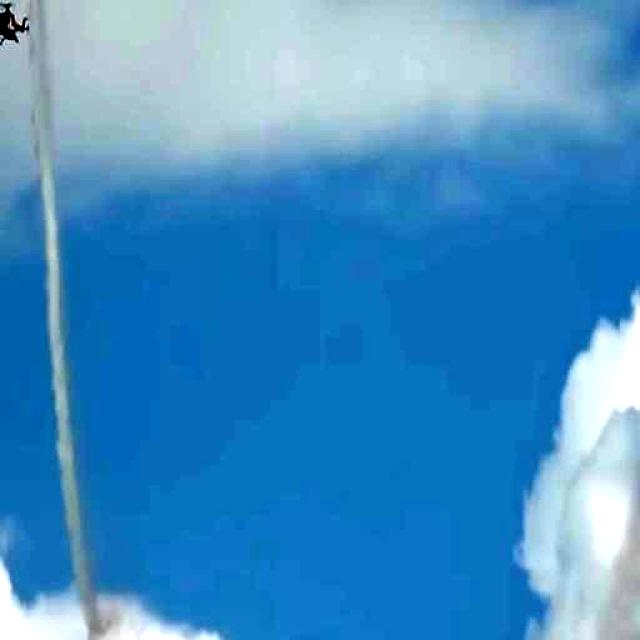drone: (0, 0, 38, 48)
